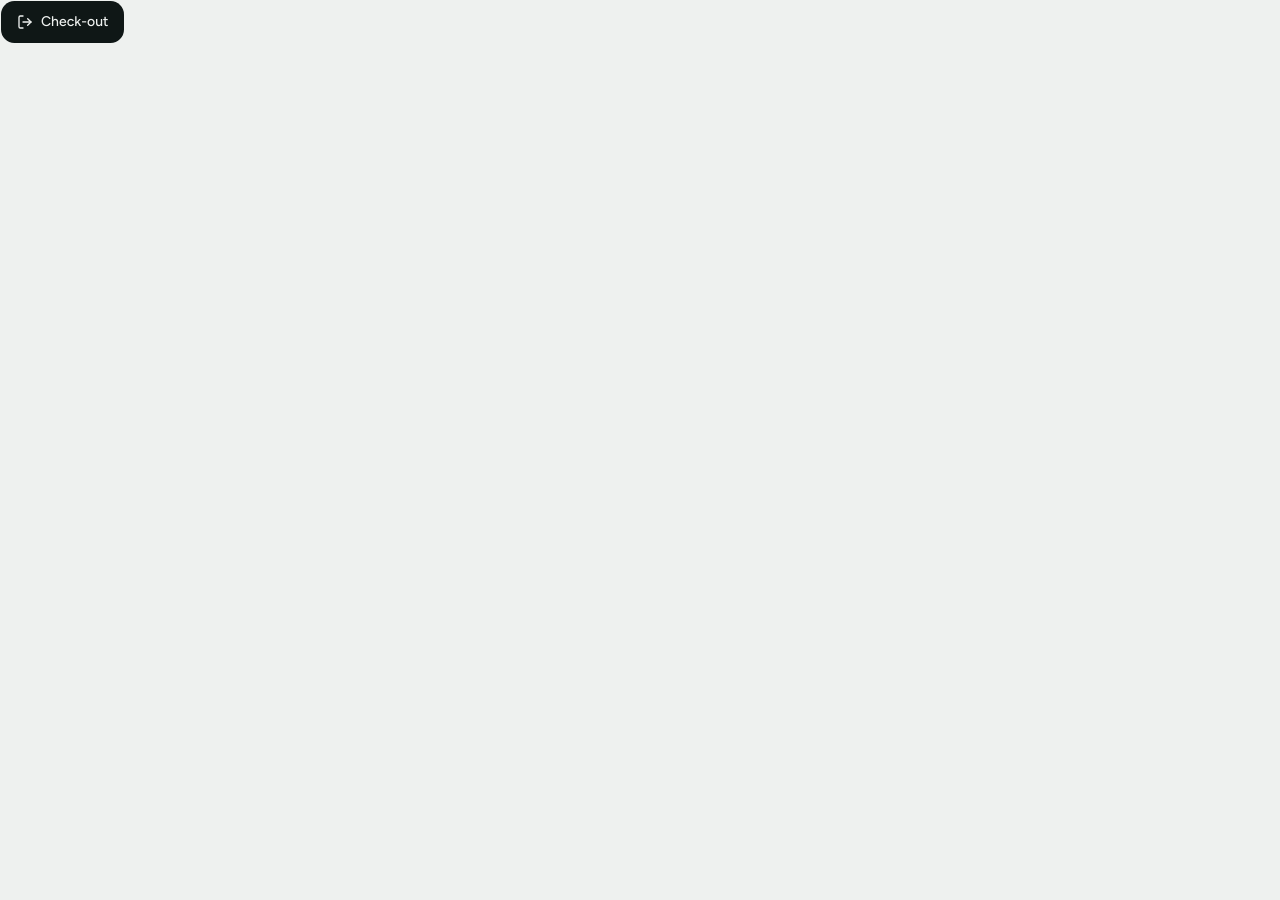
it: confirmação do check-out › consumo em aberto: só fecha com motivo, que vai junto para o sistema
Later steps or results of the test are not shown.
Step 1. Click the button "Check-out" → (63, 22), box [0, 0, 125, 44]
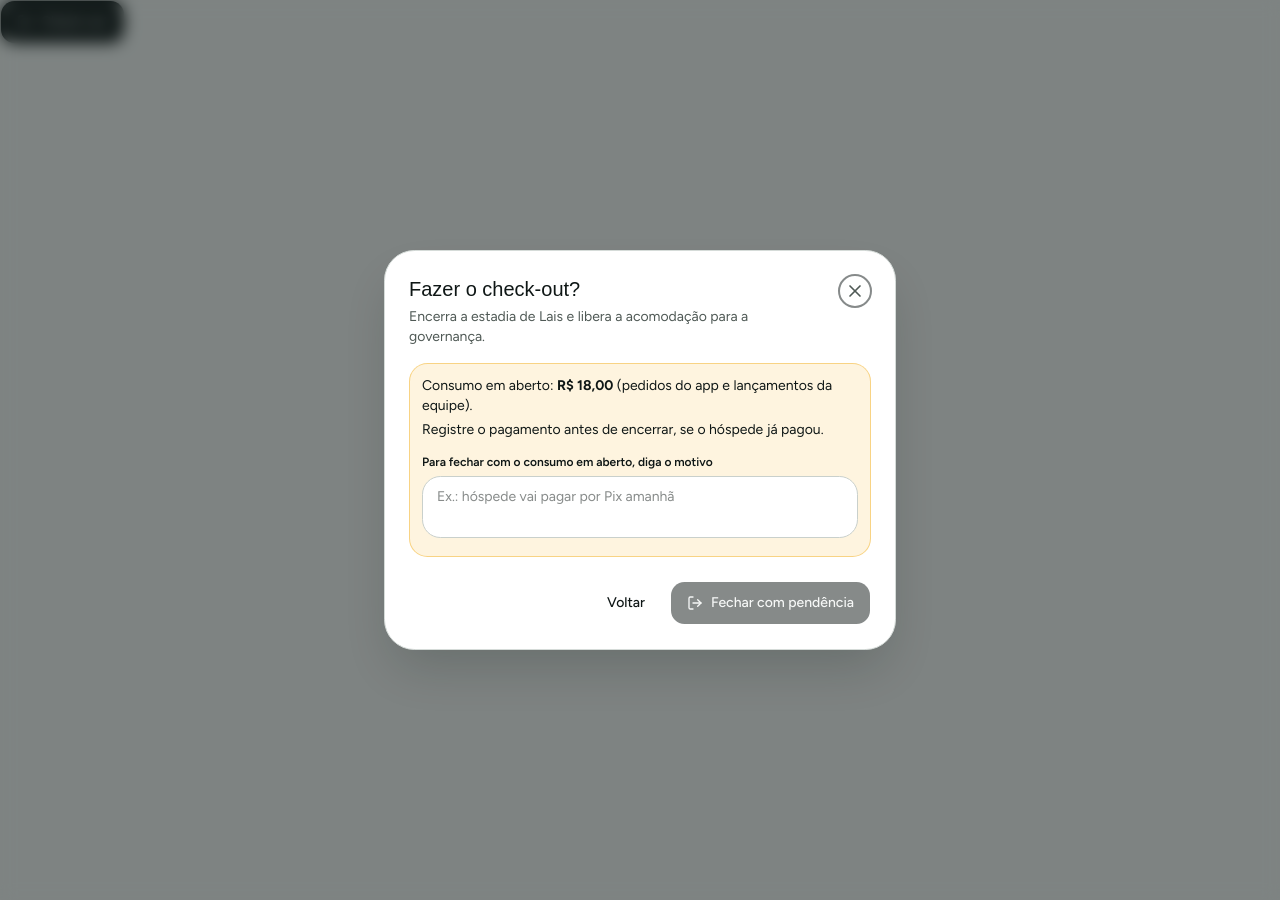
Result: the button "Fechar com pendência" is disabled at [670, 581, 871, 625]
Step 2. Type "Paga por Pix amanhã" into the text box with placeholder "Ex.: hóspede vai pagar por Pix amanhã" → (640, 507), box [422, 476, 858, 538]
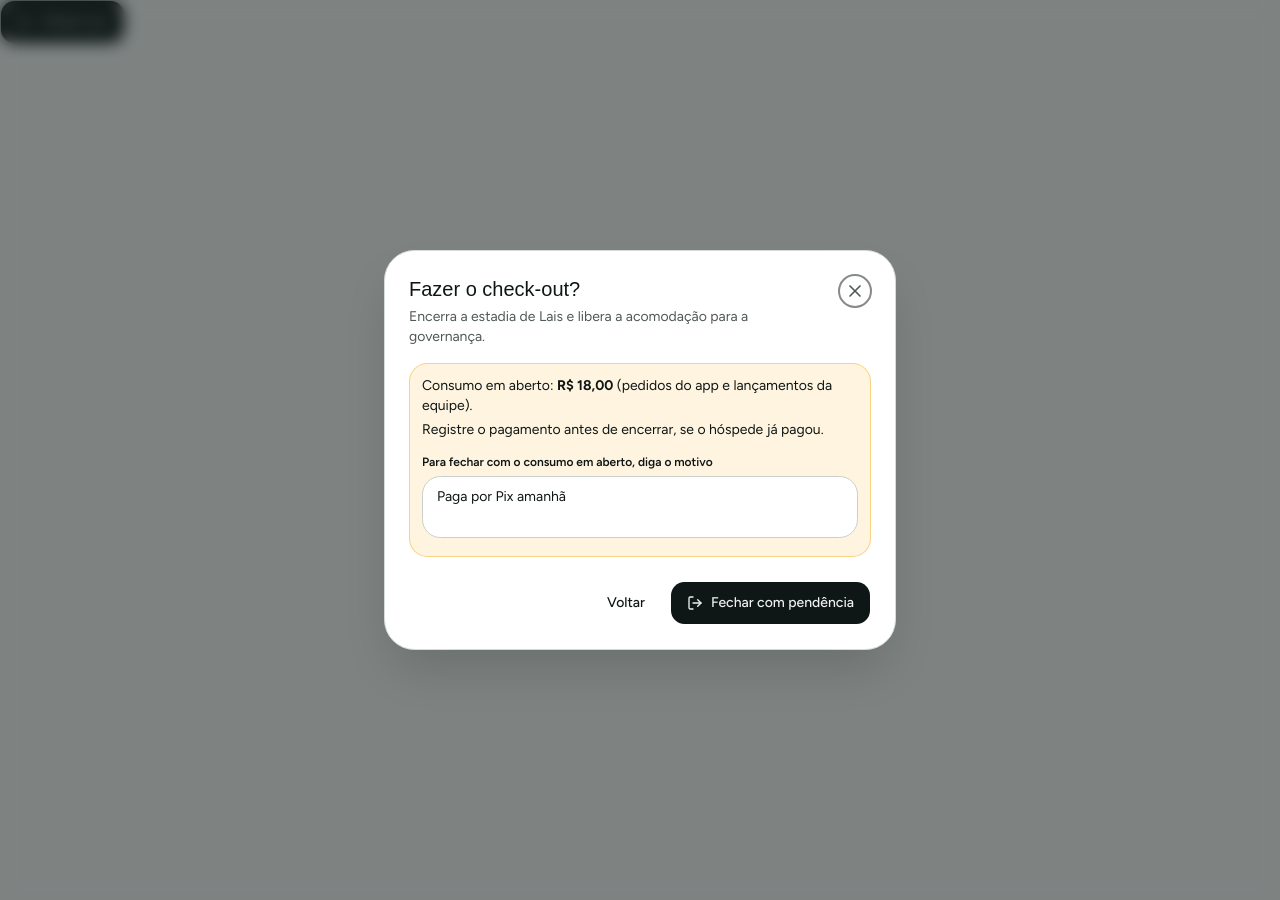
Result: the button "Fechar com pendência" is enabled at [670, 581, 871, 625]
